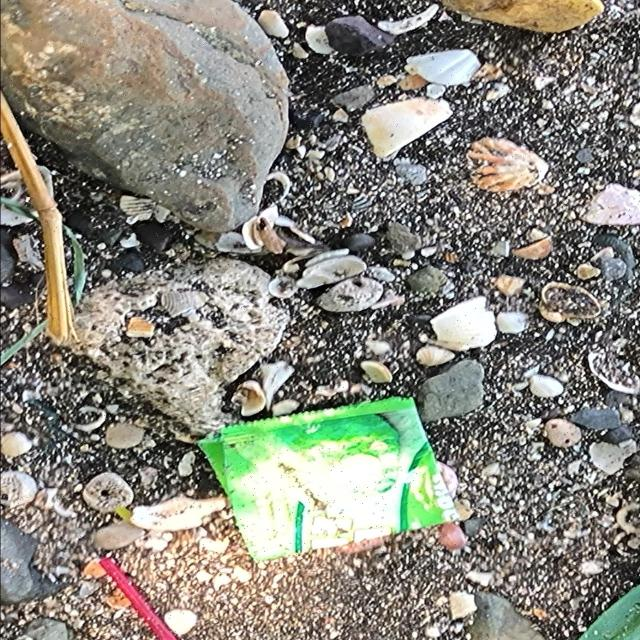plastic_waste: (194, 397, 462, 564), (100, 559, 180, 640)
